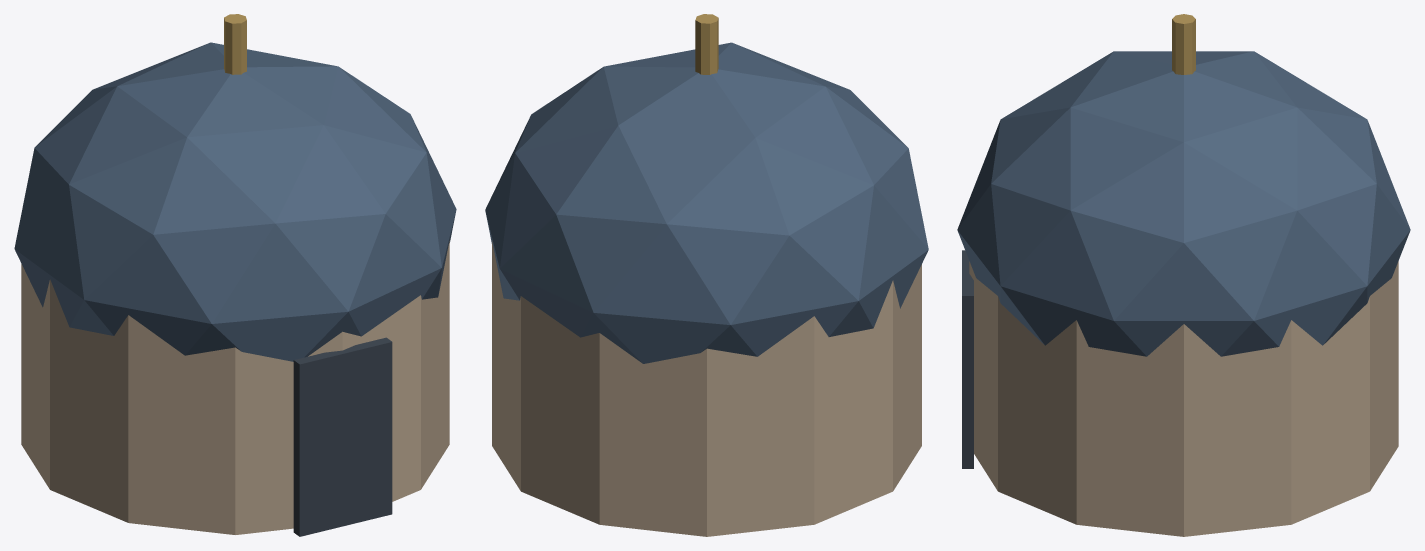
File: dome.glb
3 views of the same model, side by side, from view 1: azimuth 30°, elevation 25°; view 2: azimuth 150°, elevation 25°; view 3: azimuth 270°, elevation 25° (orthographic).
Visible parts, largest first — view 1: dome; view 2: dome; view 3: dome.
Part boxes in pixels (x1,y1,x2,y2): dome: (14,14,456,536); dome: (485,14,928,536); dome: (957,14,1410,536).
Bounding box in the file's own units: 3.61 × 3.95 × 3.8.
